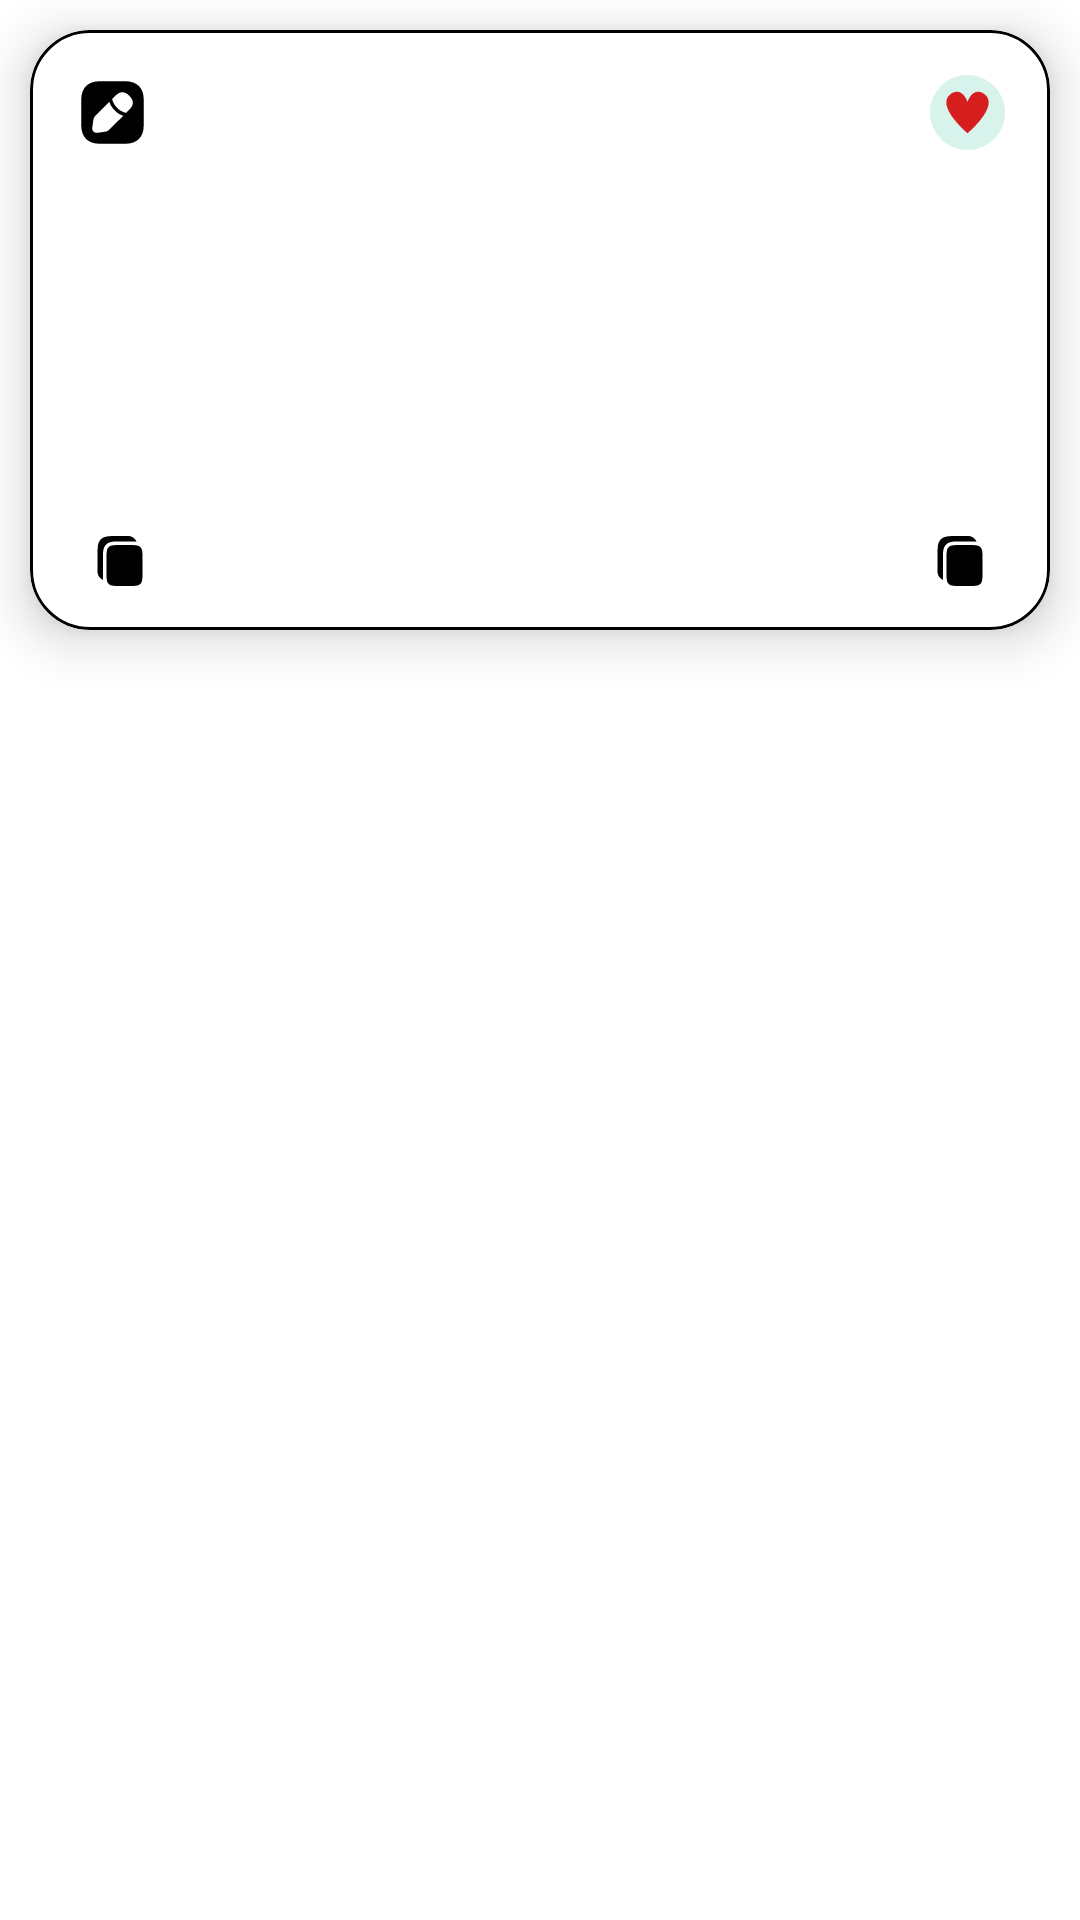

Icons on this 1080 x 1920 Android screen, each with its box as (x1, y1, x2, y2):
edit: (81, 81, 144, 144)
hearts: (930, 75, 1005, 150)
